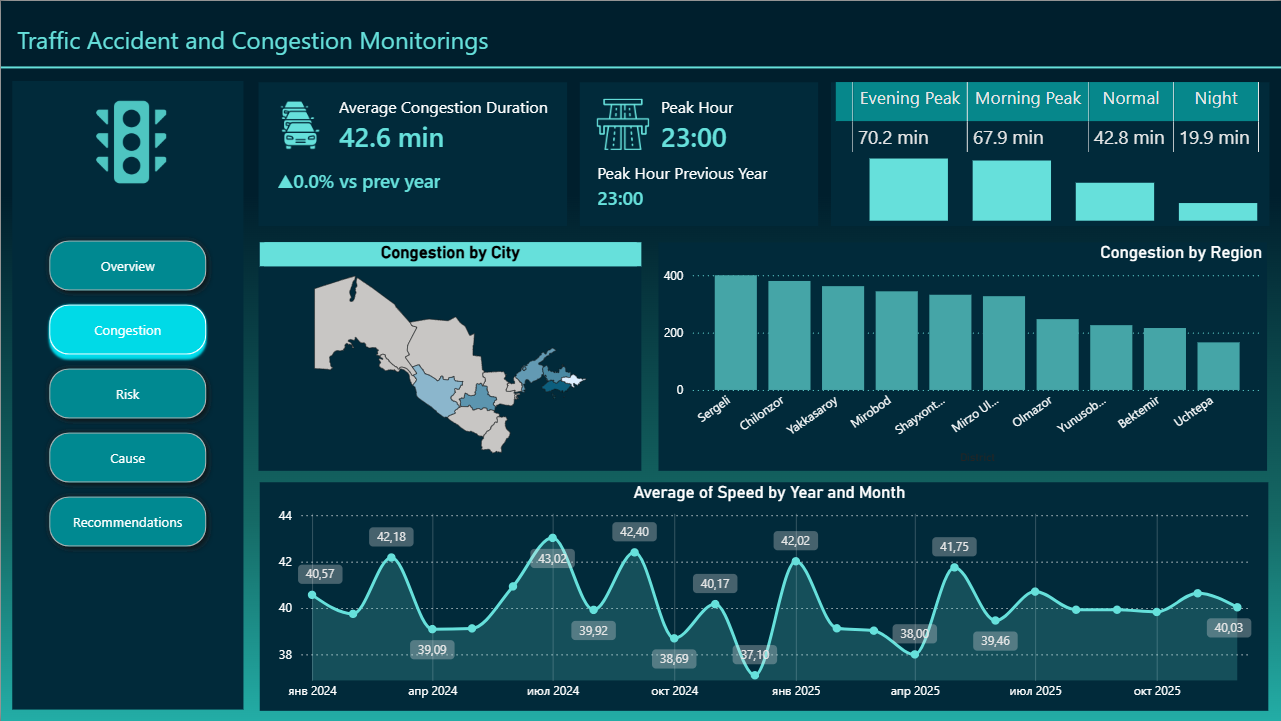

What the dashboard file says about the page in this screenshot:
{"tool":"powerbi","page":{"name":"Congestion ","canvas":[1280,720],"ordinal":1},"visuals":[{"type":"shape","box":[11.4,80,231.4,628.6],"z":0},{"type":"shape","box":[0,60,1280,12.9],"z":1000},{"type":"textbox","box":[11.4,17.1,492.9,42.9],"z":2000},{"type":"image","box":[64.3,97.1,134.3,87.1],"z":3000},{"type":"shape","box":[257.1,81.4,308.6,144.3],"z":4000},{"type":"shape","box":[578.6,81.4,238.6,144.3],"z":5000},{"type":"shape","box":[830,81.4,438.6,144.3],"z":6000},{"type":"shape","box":[257.1,241.4,382.9,228.6],"z":7000},{"type":"shape","box":[258.6,481.4,1008.6,228.6],"z":8000},{"type":"shape","box":[657.1,241.4,608.6,228.6],"z":9000},{"type":"cardVisual","fields":{"Data":["All measures.Average Congestion Duration Text"]},"box":[255.7,92.9,310,62.9],"z":10000},{"type":"cardVisual","fields":{"Data":["All measures.Peak Hour"]},"box":[578.6,92.9,307.1,62.9],"z":11000},{"type":"cardVisual","fields":{"Data":["All measures.% Conj vs LastYear txt"]},"box":[271.4,155.7,182.9,44.3],"z":12000},{"type":"cardVisual","fields":{"Data":["All measures.Peak Hour Previous Year"]},"box":[591.4,157.1,182.9,54.3],"z":13000},{"type":"areaChart","fields":{"Y":["Avg(Congestion.Speed)"],"Category":["Congestion.DateTime.Variation.Date Hierarchy.Year","Congestion.DateTime.Variation.Date Hierarchy.Month"]},"box":[271.4,481.4,994.3,227.1],"z":14000},{"type":"columnChart","title":"Congestion by Region","fields":{"Category":["Regions.District"],"Y":["All measures.Congestion Count"]},"box":[657.1,241.4,608.6,225.7],"z":15000},{"type":"shapeMap","title":"Congestion by City","fields":{"Category":["Regions.MapCity"],"Value":["All measures.Congestion Count"]},"box":[258.6,241.4,381.4,225.7],"z":16000},{"type":"pivotTable","fields":{"Columns":["Congestion.PeakPeriod"],"Values":["All measures.Average Congestion Duration Text"]},"box":[830,75.7,435.7,81.4],"z":17000},{"type":"clusteredColumnChart","fields":{"Category":["Congestion.PeakPeriod"],"Y":["Avg(Congestion.Duration)"]},"box":[863.6,134.5,401.8,90.9],"z":18000},{"type":"pageNavigator","box":[41,233,171,323],"z":19000}]}

Visuals, with their boxes in screenshot pixels (x1, y1, x2, y2), scaled from the page's 1280x720 canvas onto the 1281x721 screenshot:
shape: 11:80:243:710
shape: 0:60:1280:73
textbox: 11:17:505:60
image: 64:97:199:184
shape: 257:82:566:226
shape: 579:82:818:226
shape: 831:82:1270:226
shape: 257:242:640:471
shape: 259:482:1268:711
shape: 658:242:1267:471
cardVisual - All measures.Average Congestion Duration Text: 256:93:566:156
cardVisual - All measures.Peak Hour: 579:93:886:156
cardVisual - All measures.% Conj vs LastYear txt: 272:156:455:200
cardVisual - All measures.Peak Hour Previous Year: 592:157:775:212
areaChart - Avg(Congestion.Speed) x Congestion.DateTime.Variation.Date Hierarchy.Year: 272:482:1267:709
"Congestion by Region" columnChart: 658:242:1267:468
"Congestion by City" shapeMap: 259:242:640:468
pivotTable - Congestion.PeakPeriod x All measures.Average Congestion Duration Text: 831:76:1267:157
clusteredColumnChart - Congestion.PeakPeriod x Avg(Congestion.Duration): 864:135:1266:226
pageNavigator: 41:233:212:557
